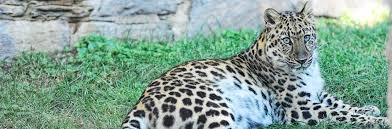amur_leopard: (148, 3, 385, 129)
